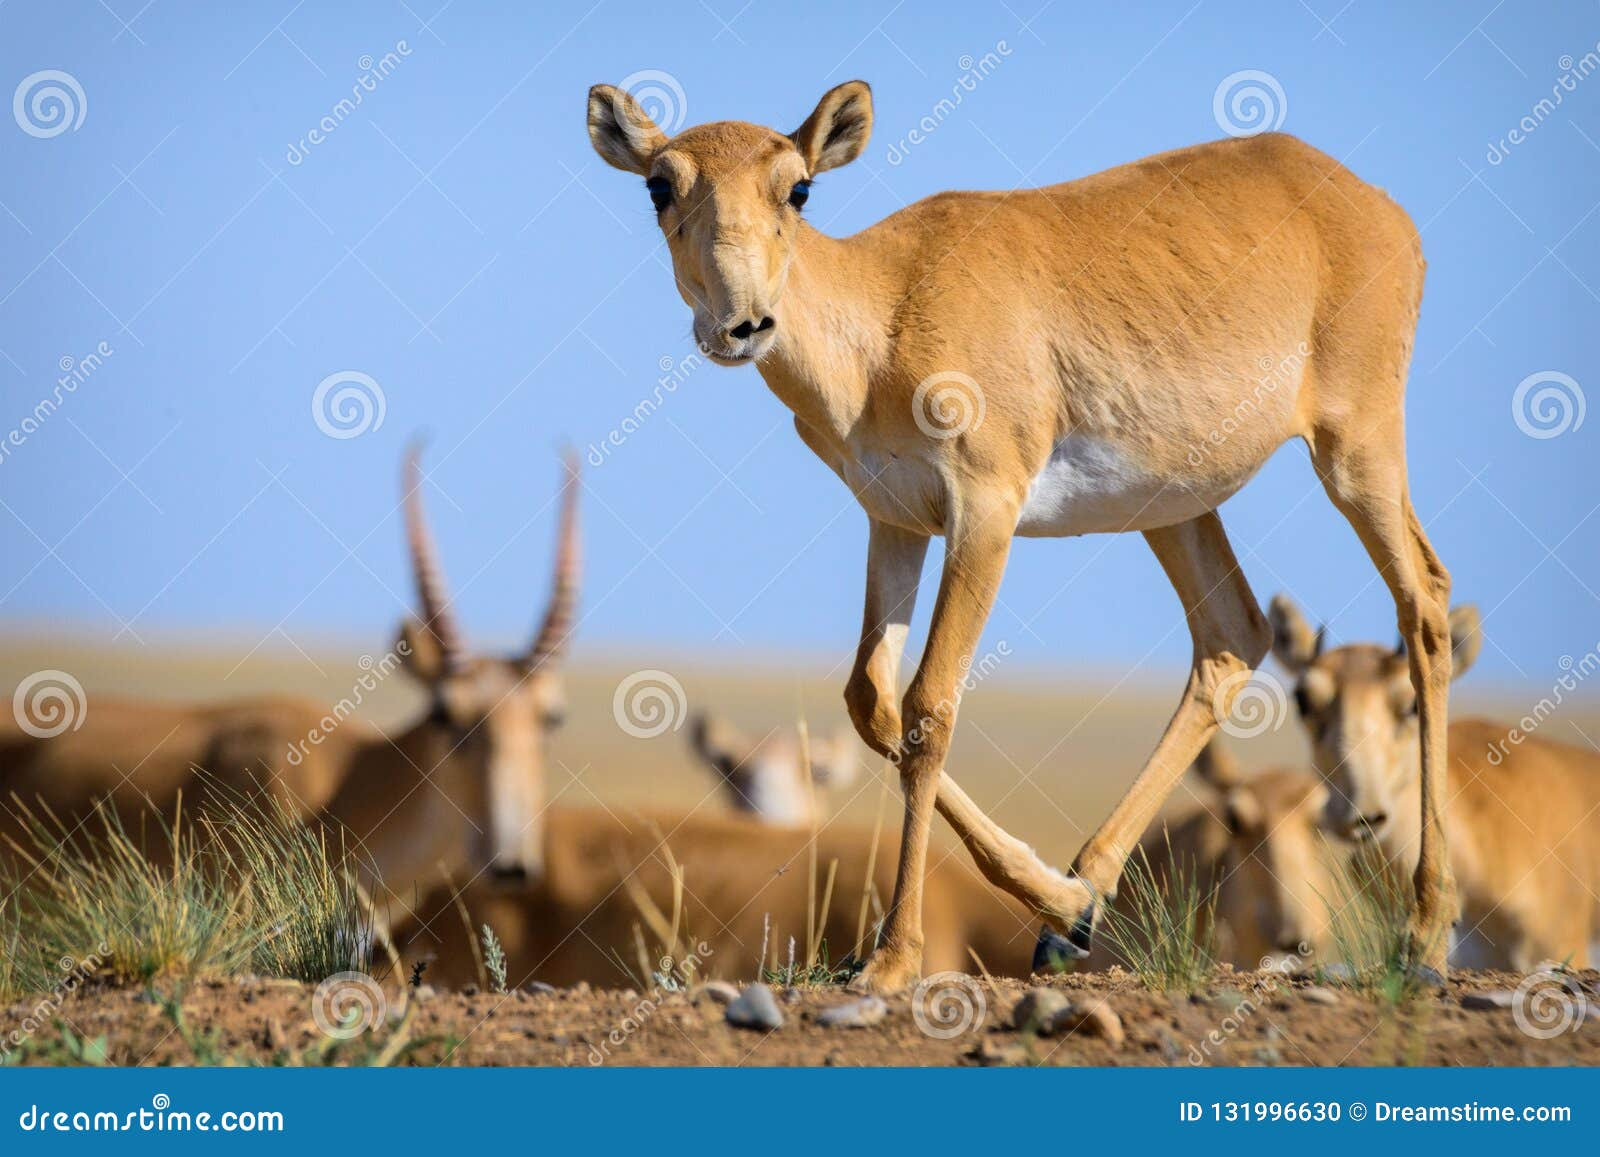saiga: (576, 76, 1484, 984)
